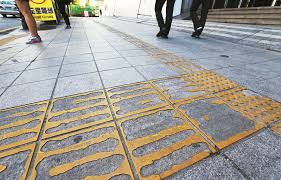guide_blocks: (219, 92, 281, 121), (189, 74, 237, 92)
